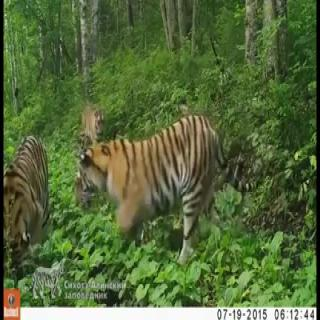Tiger: (75, 116, 240, 270), (0, 114, 58, 263), (76, 97, 106, 145)
